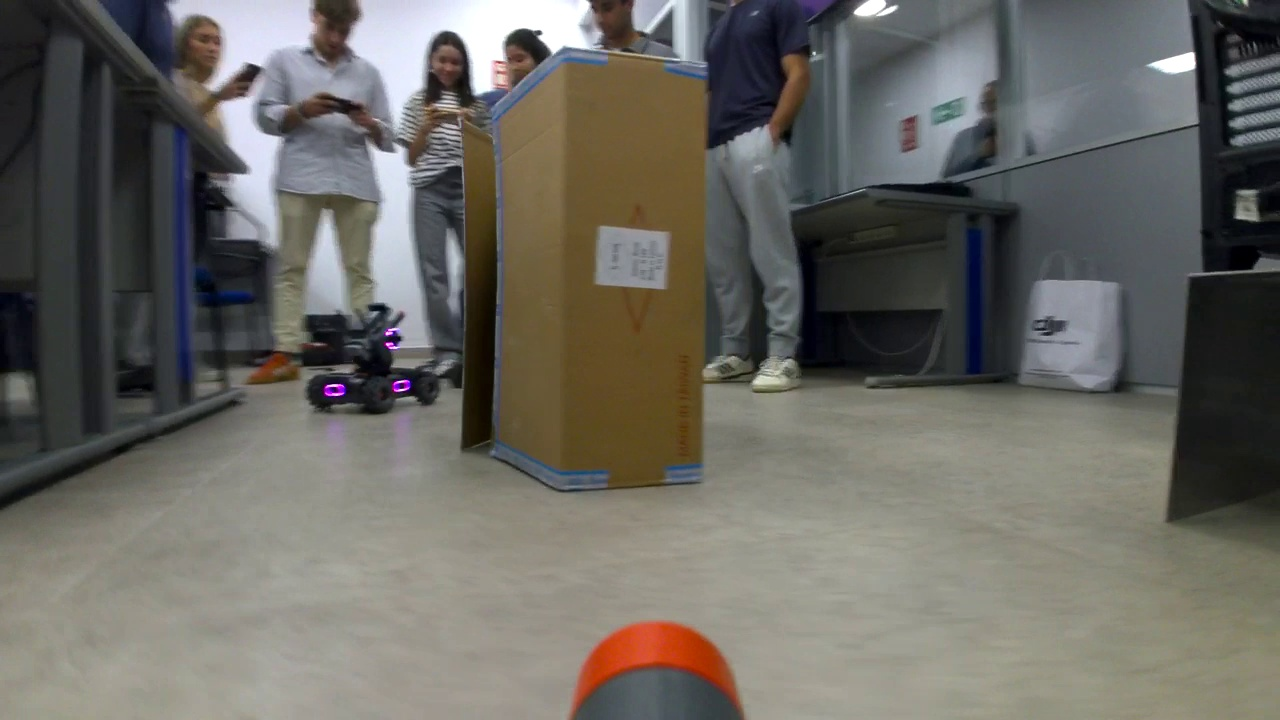robot: (302, 300, 437, 413)
